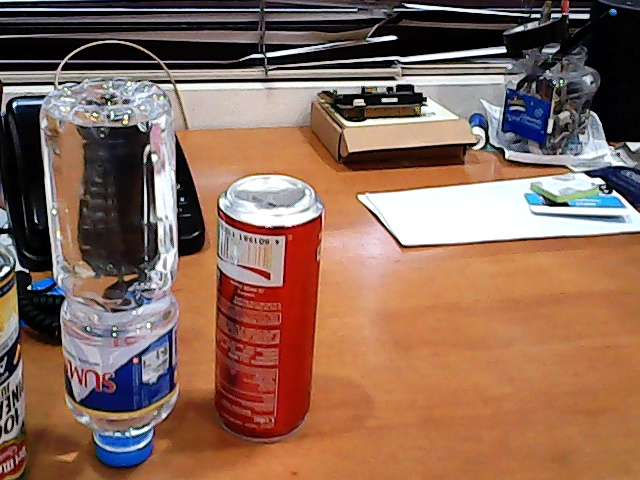Cola: (195, 153, 344, 461)
Pine Juice: (1, 194, 31, 480)
Summit Water: (32, 61, 185, 475)
